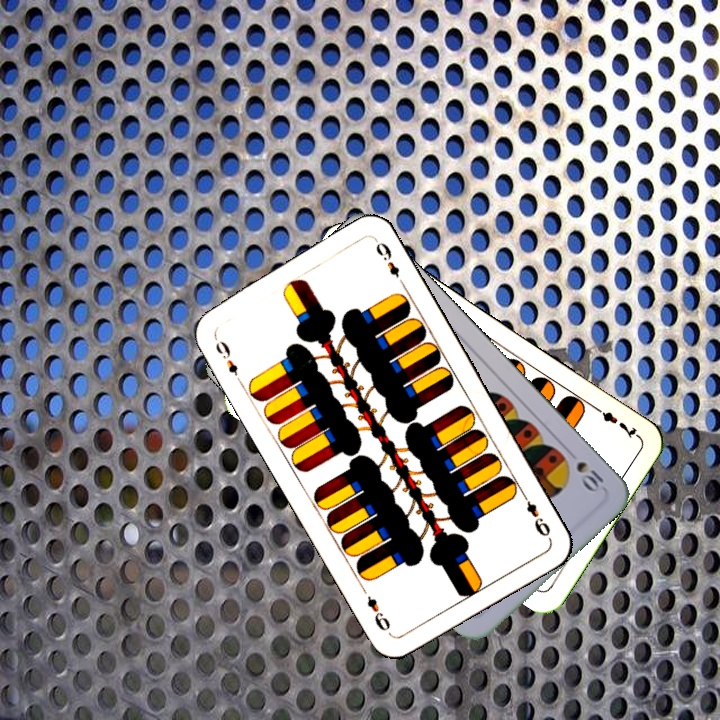E7: (589, 401, 641, 441)
E9: (209, 331, 244, 386), (517, 488, 553, 540)
S10: (562, 445, 609, 496)
